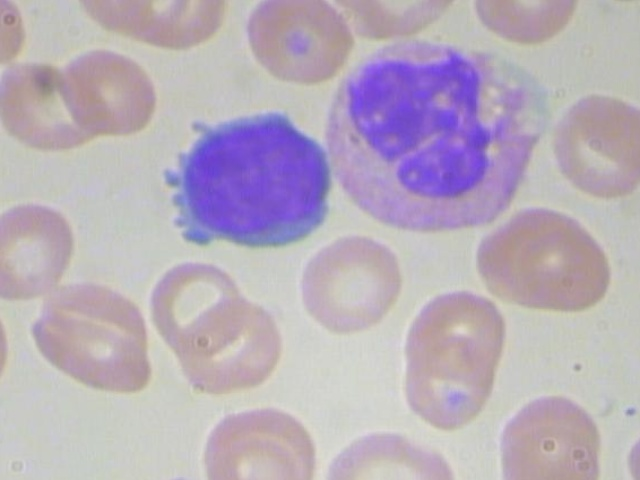Platelets: (0, 401, 2, 436)
RBC: (290, 230, 411, 340), (142, 243, 258, 357), (502, 203, 618, 317), (490, 380, 612, 480), (542, 90, 640, 204), (393, 285, 513, 377), (238, 0, 358, 90), (54, 43, 160, 143), (198, 403, 323, 480), (0, 192, 84, 301), (319, 429, 470, 480)
WBC: (316, 33, 564, 245), (162, 104, 339, 257)
